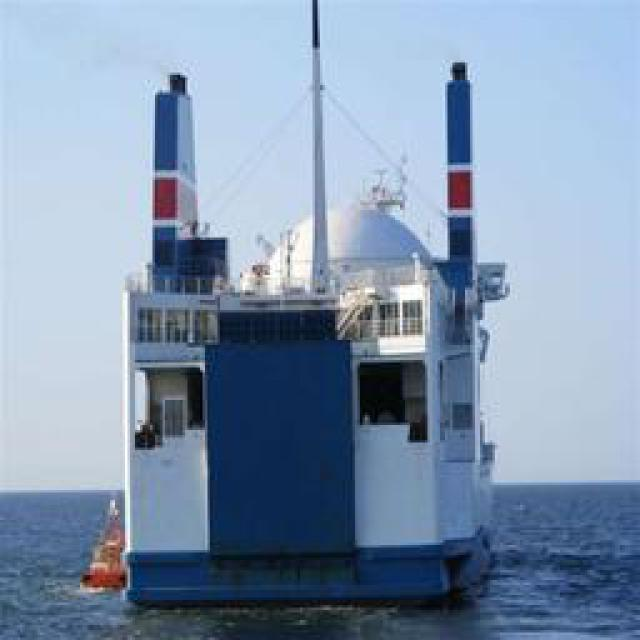Ship: (109, 28, 504, 623)
